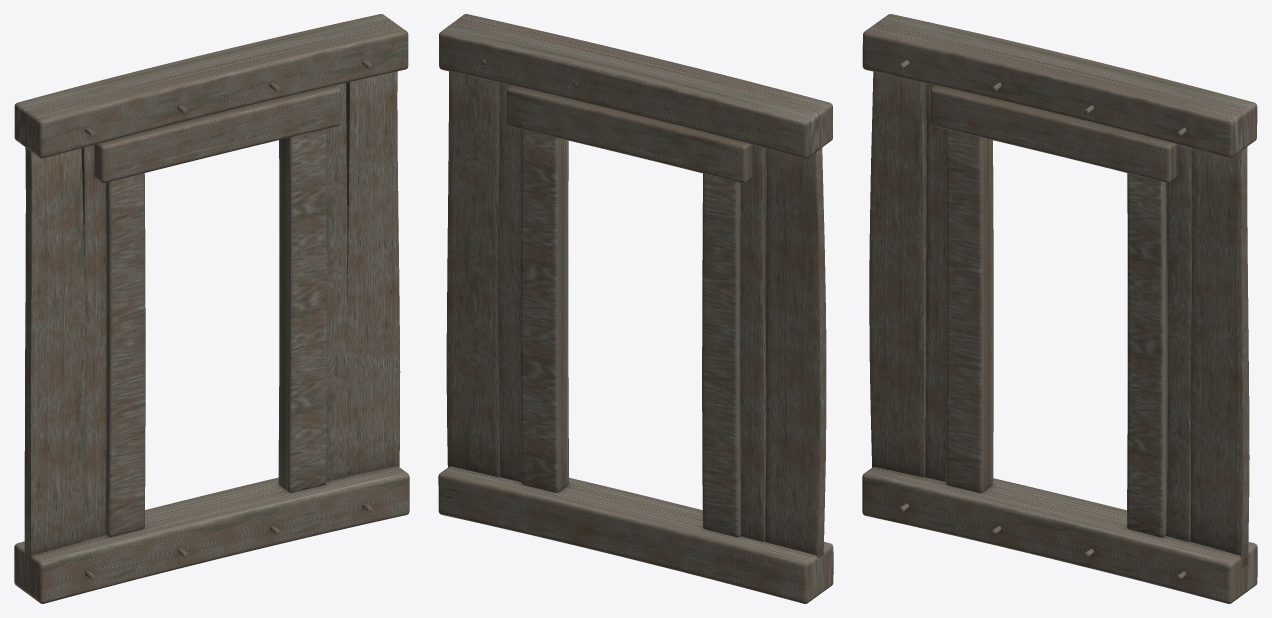
The model's file is wall_plank_door_2m.glb.
3 views of the same model, side by side, from view 1: azimuth 30°, elevation 25°; view 2: azimuth 150°, elevation 25°; view 3: azimuth 330°, elevation 25° (orthographic).
Parts seen in each view (by area): view 1: wall_plank_door_2m; view 2: wall_plank_door_2m; view 3: wall_plank_door_2m.
Boxes of the visible parts, left/top/right/bottom form: wall_plank_door_2m: left=14, top=14, right=409, bottom=603; wall_plank_door_2m: left=438, top=14, right=833, bottom=603; wall_plank_door_2m: left=862, top=14, right=1257, bottom=603.
Size of the model in its own units: 2.01 by 2.51 by 0.323.
1 material, 1 textured.
